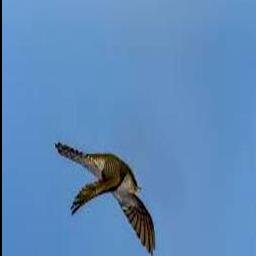Cuckoo: (54, 143, 155, 256)
